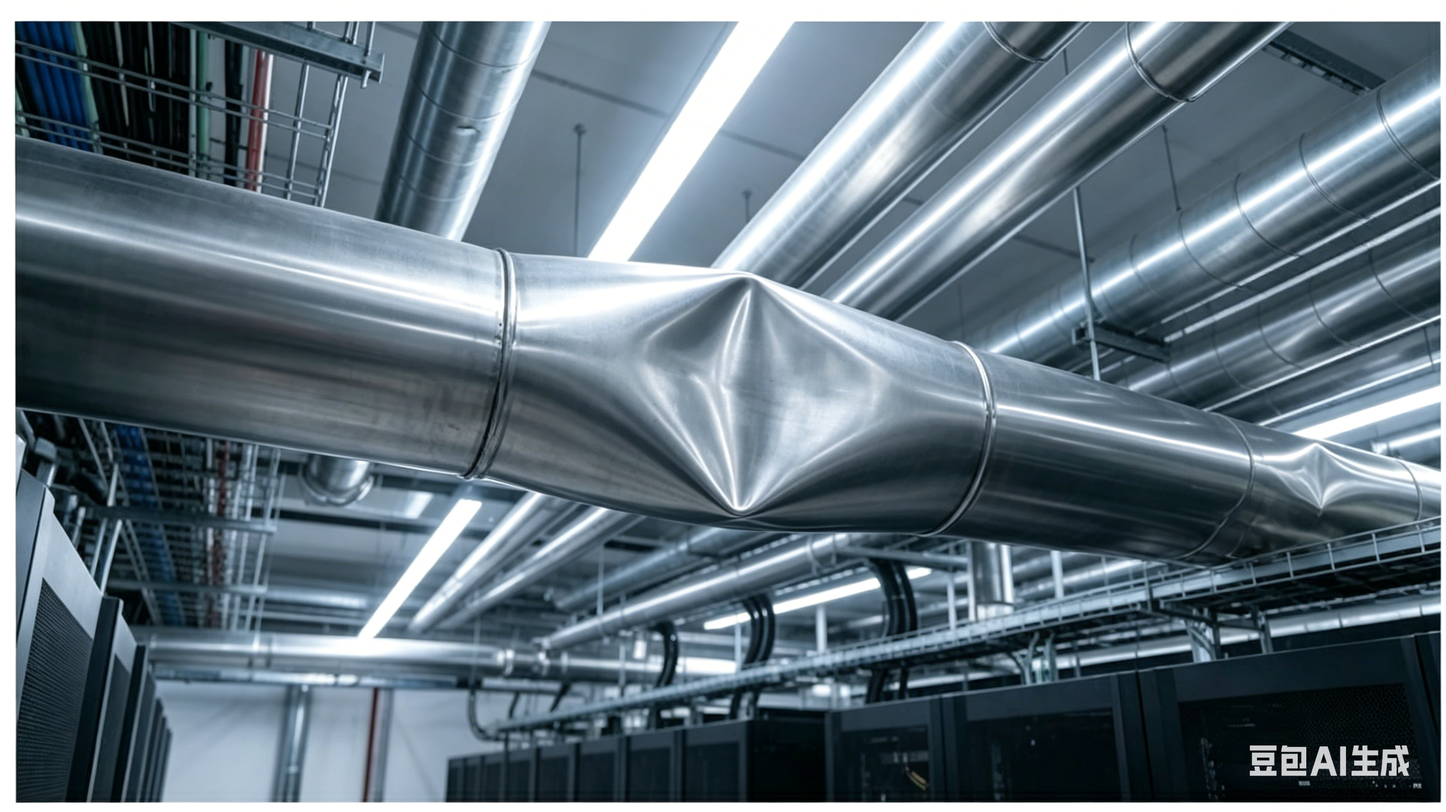Leakage: (603, 260, 901, 524), (1245, 426, 1404, 525)
